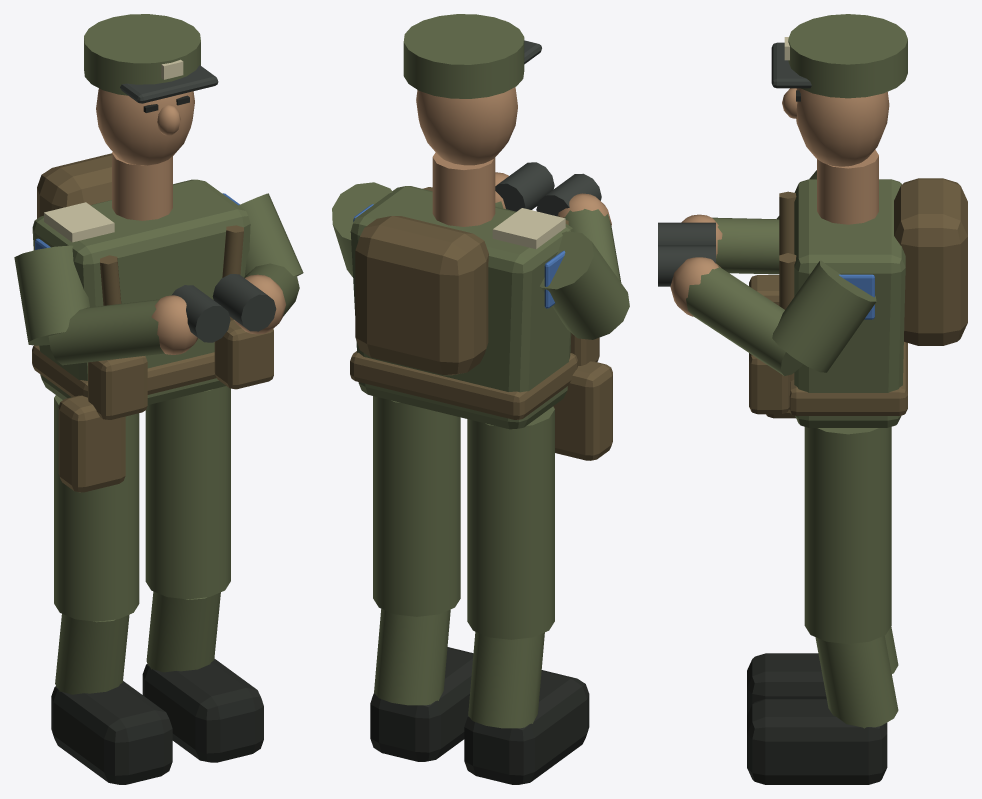
Rendered from commander.glb.
3 views of the same model, side by side, from view 1: azimuth 30°, elevation 25°; view 2: azimuth 150°, elevation 25°; view 3: azimuth 270°, elevation 25° (orthographic). The views are drawn at different scales.
Parts seen in each view (by area): view 1: Uniform, Canvas, Tracks, Skin, Steel, Markings; view 2: Uniform, Canvas, Tracks, Skin, Steel, Markings, TeamColor; view 3: Uniform, Canvas, Tracks, Skin, Steel, TeamColor.
Part boxes in pixels (box(x1,y1,x2,y2)): Uniform: box(14, 14, 303, 694); Canvas: box(32, 153, 273, 492); Tracks: box(51, 95, 263, 784); Skin: box(96, 88, 285, 354); Steel: box(120, 65, 276, 342); Markings: box(44, 59, 183, 242); Uniform: box(332, 14, 629, 728); Canvas: box(350, 187, 612, 460); Tracks: box(370, 647, 589, 784); Skin: box(416, 87, 611, 226); Steel: box(495, 40, 601, 216); Markings: box(492, 20, 565, 249); TeamColor: box(353, 204, 565, 308); Uniform: box(686, 14, 907, 728); Canvas: box(749, 178, 967, 418); Tracks: box(747, 90, 887, 784); Skin: box(670, 88, 889, 316); Steel: box(658, 42, 811, 286); TeamColor: box(839, 274, 874, 319).
Size of the model in its own units: 0.7649 by 1.91 by 0.75.
